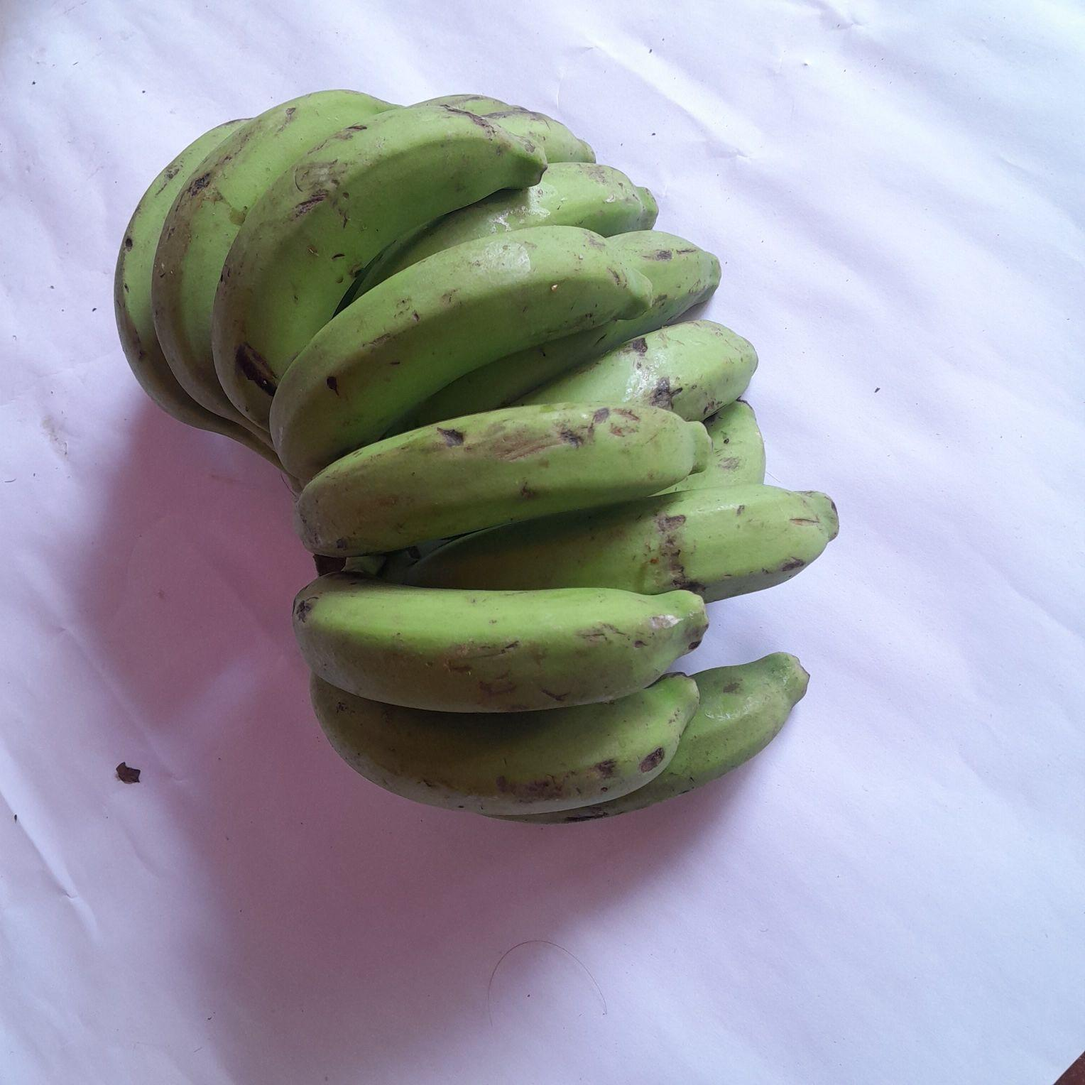Banana Unripe: (212, 104, 547, 428), (269, 227, 651, 479), (153, 91, 392, 423), (295, 403, 710, 557), (407, 231, 721, 424), (292, 572, 708, 713), (114, 121, 280, 466), (312, 674, 699, 816), (496, 653, 810, 823), (405, 483, 839, 602), (517, 320, 759, 422), (661, 401, 765, 493)
